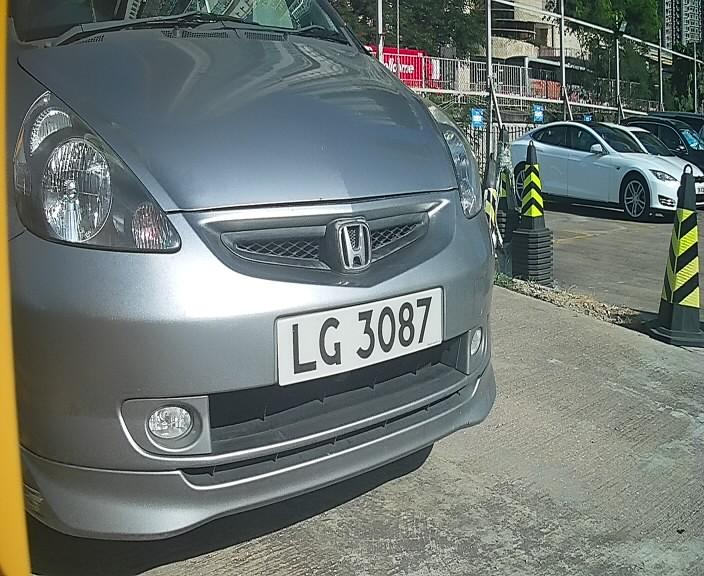License Plate: (280, 278, 444, 386)
